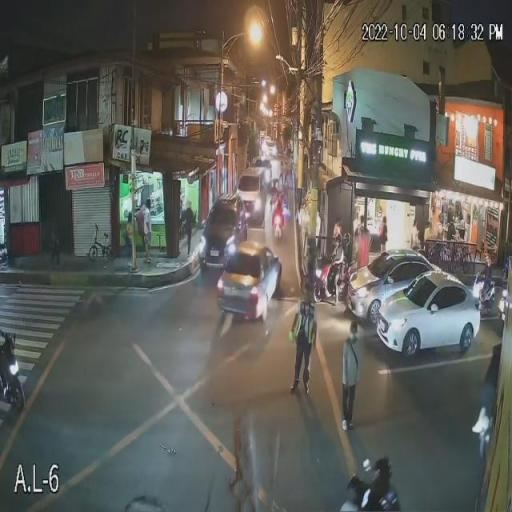helmet: (374, 457, 390, 472), (332, 231, 342, 241)
motorcycle: (312, 253, 354, 304), (0, 329, 26, 411), (475, 270, 504, 320), (338, 484, 386, 512), (270, 206, 286, 241)
rider: (363, 481, 400, 512), (328, 233, 350, 285), (478, 263, 496, 303), (270, 190, 288, 229)
